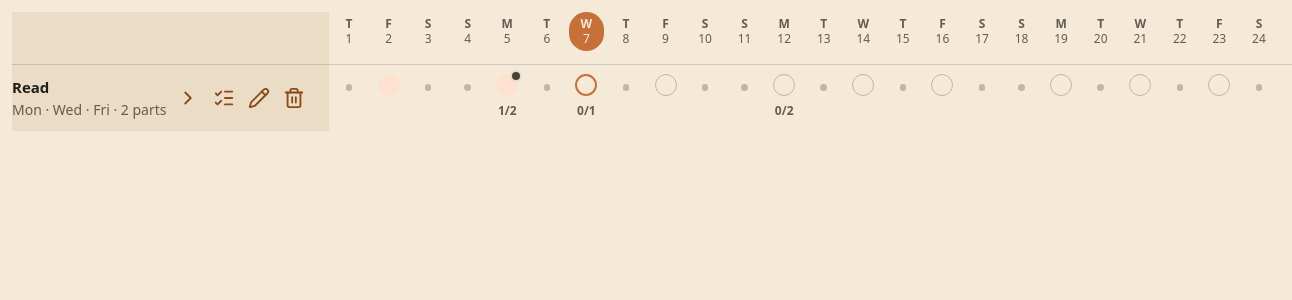
Scenario: HabitGrid › notes on the parts’ days › on the habit’s own cell › leaves a part without a note out of the card
Hover over the button named "Read, Mon 5 Oct" at x=507, y=85, box [496,74,518,96]
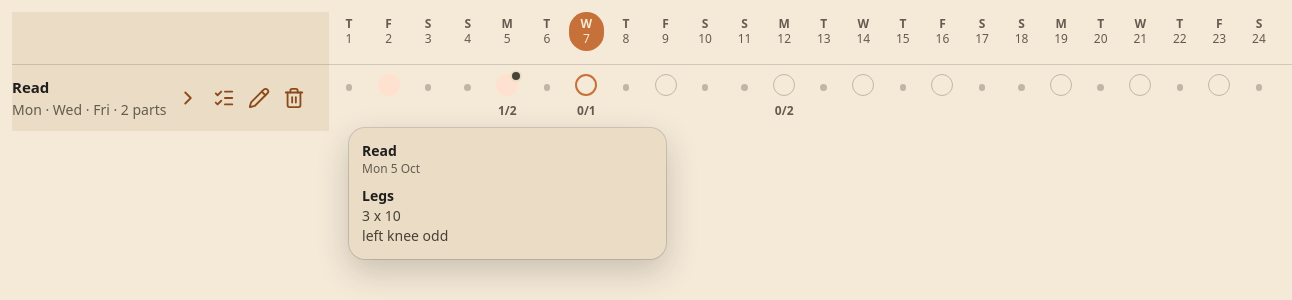
Expected: the element named "Parts, Read, Mon 5 Oct" does not show "Arms", [349,128,666,259]
Now the number of list items is 1, box [362,186,448,245]
Now the element named "Parts, Read, Mon 5 Oct" shows "Legs", box [362,186,394,205]
